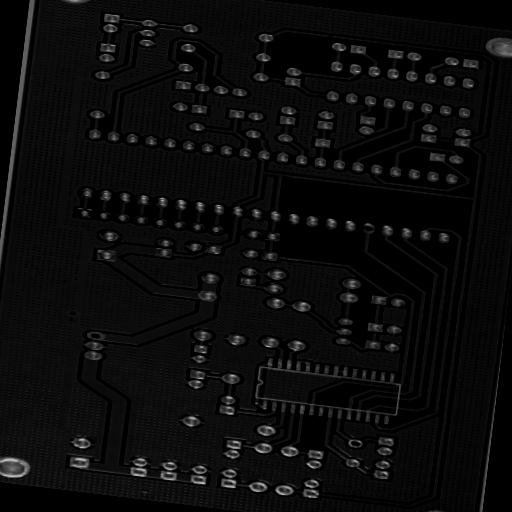missing_hole: (346, 437, 366, 449), (86, 329, 106, 340), (362, 222, 376, 234)
